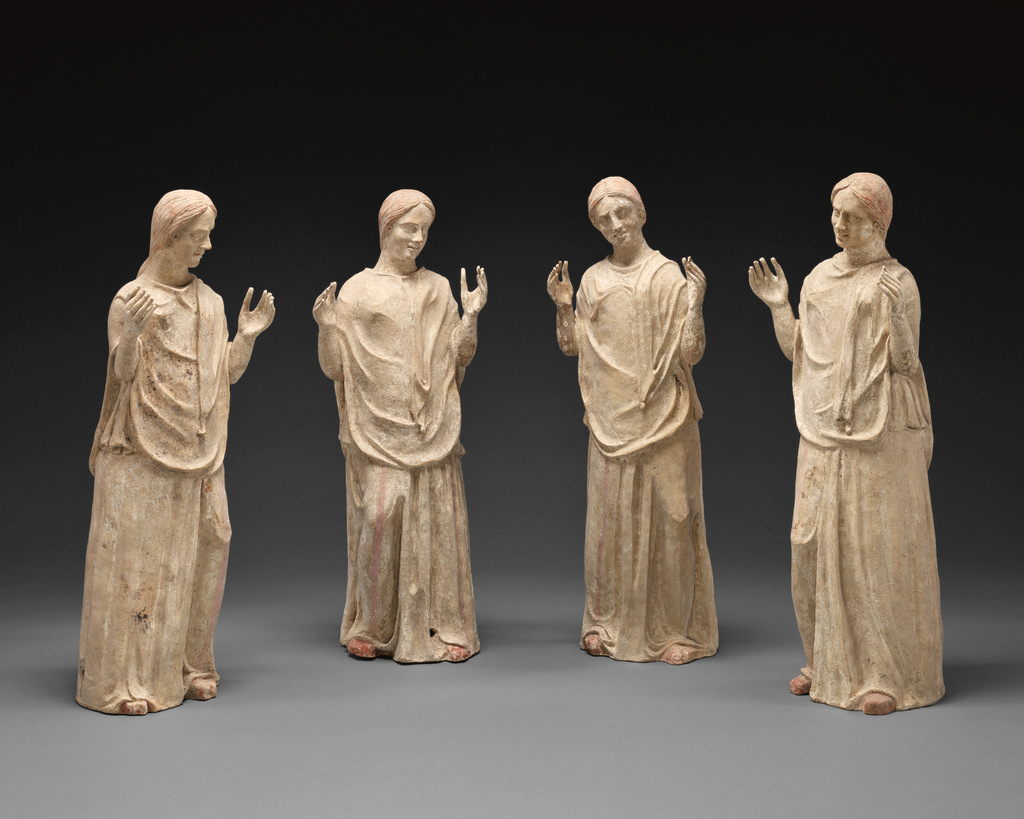person-like: (740, 159, 959, 725), (63, 176, 284, 726), (538, 159, 734, 669), (301, 175, 499, 673)
